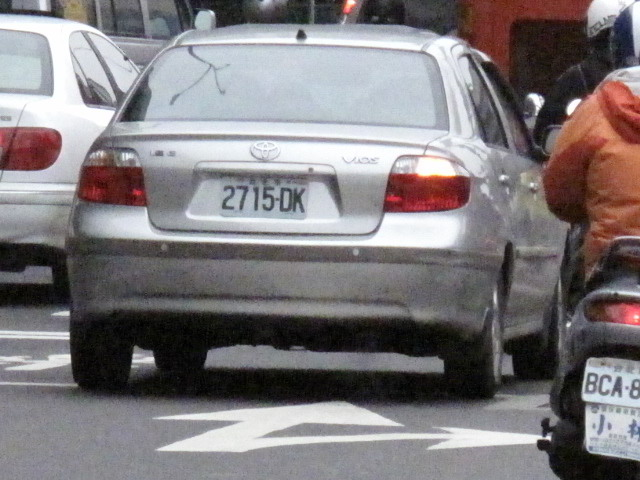plate: (219, 173, 312, 223), (580, 351, 639, 407)
